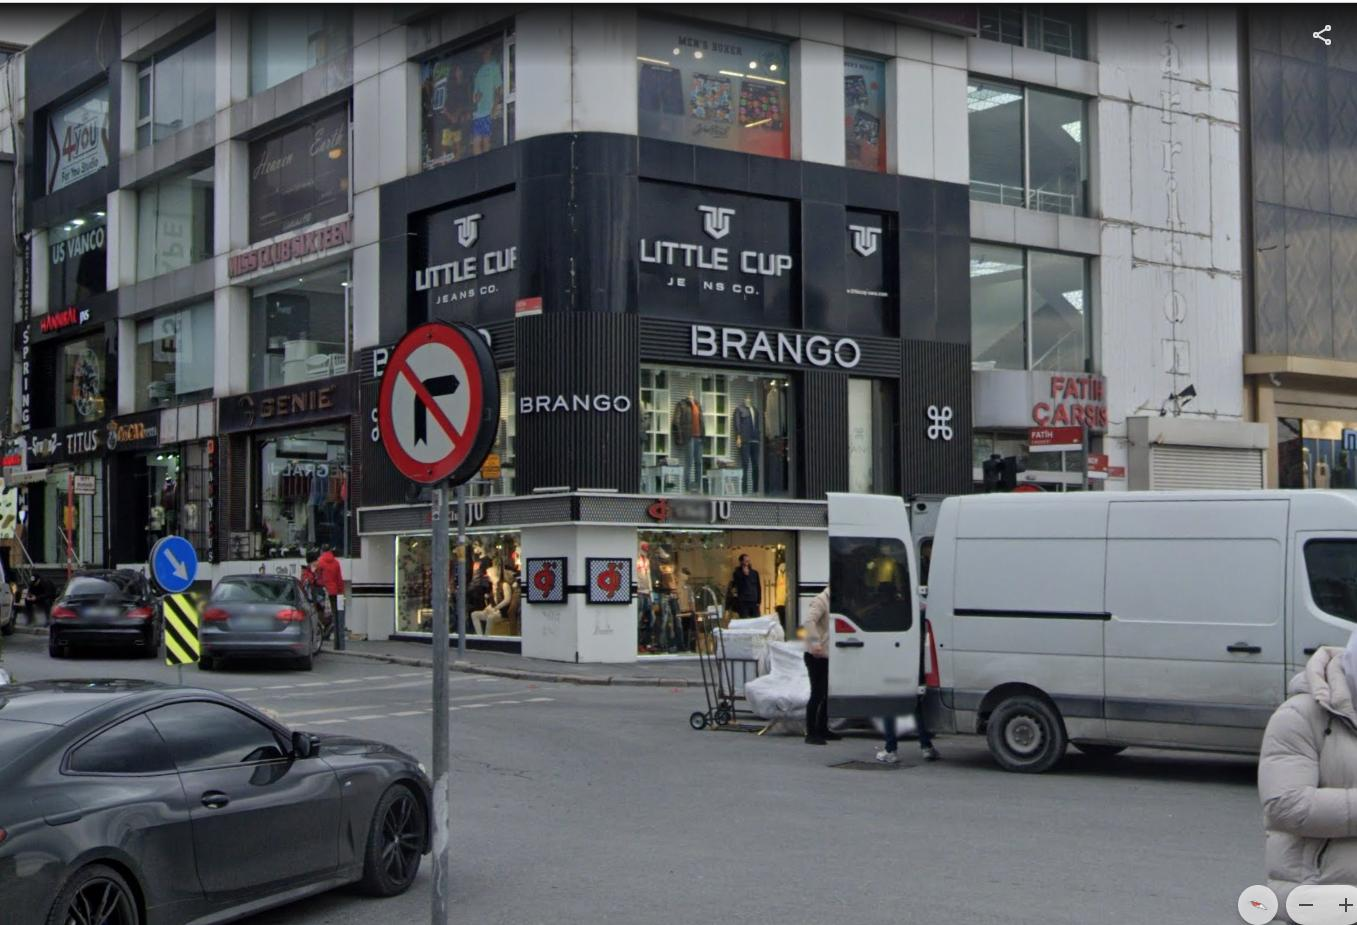rightturnsareforbidden: (359, 311, 511, 507)
